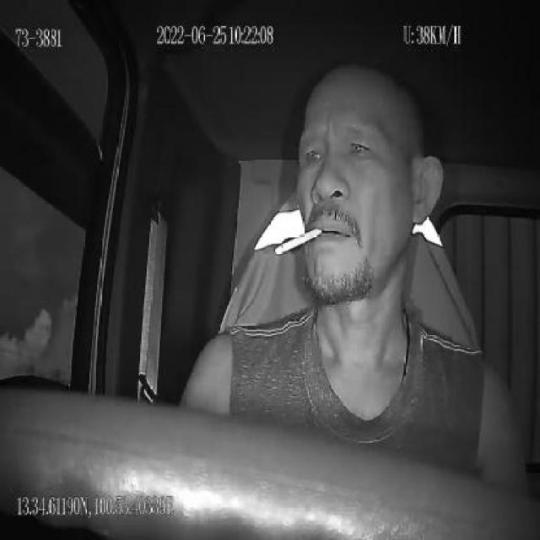smoking: (274, 227, 322, 257)
